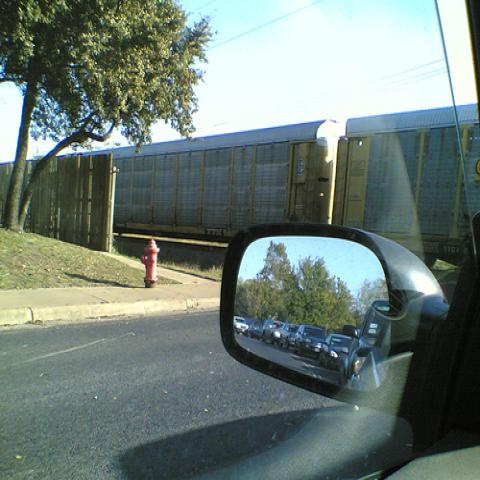car: (342, 297, 390, 379), (318, 333, 354, 368), (294, 324, 327, 357), (279, 323, 300, 351), (262, 319, 283, 344), (244, 316, 263, 340), (234, 314, 248, 336)
